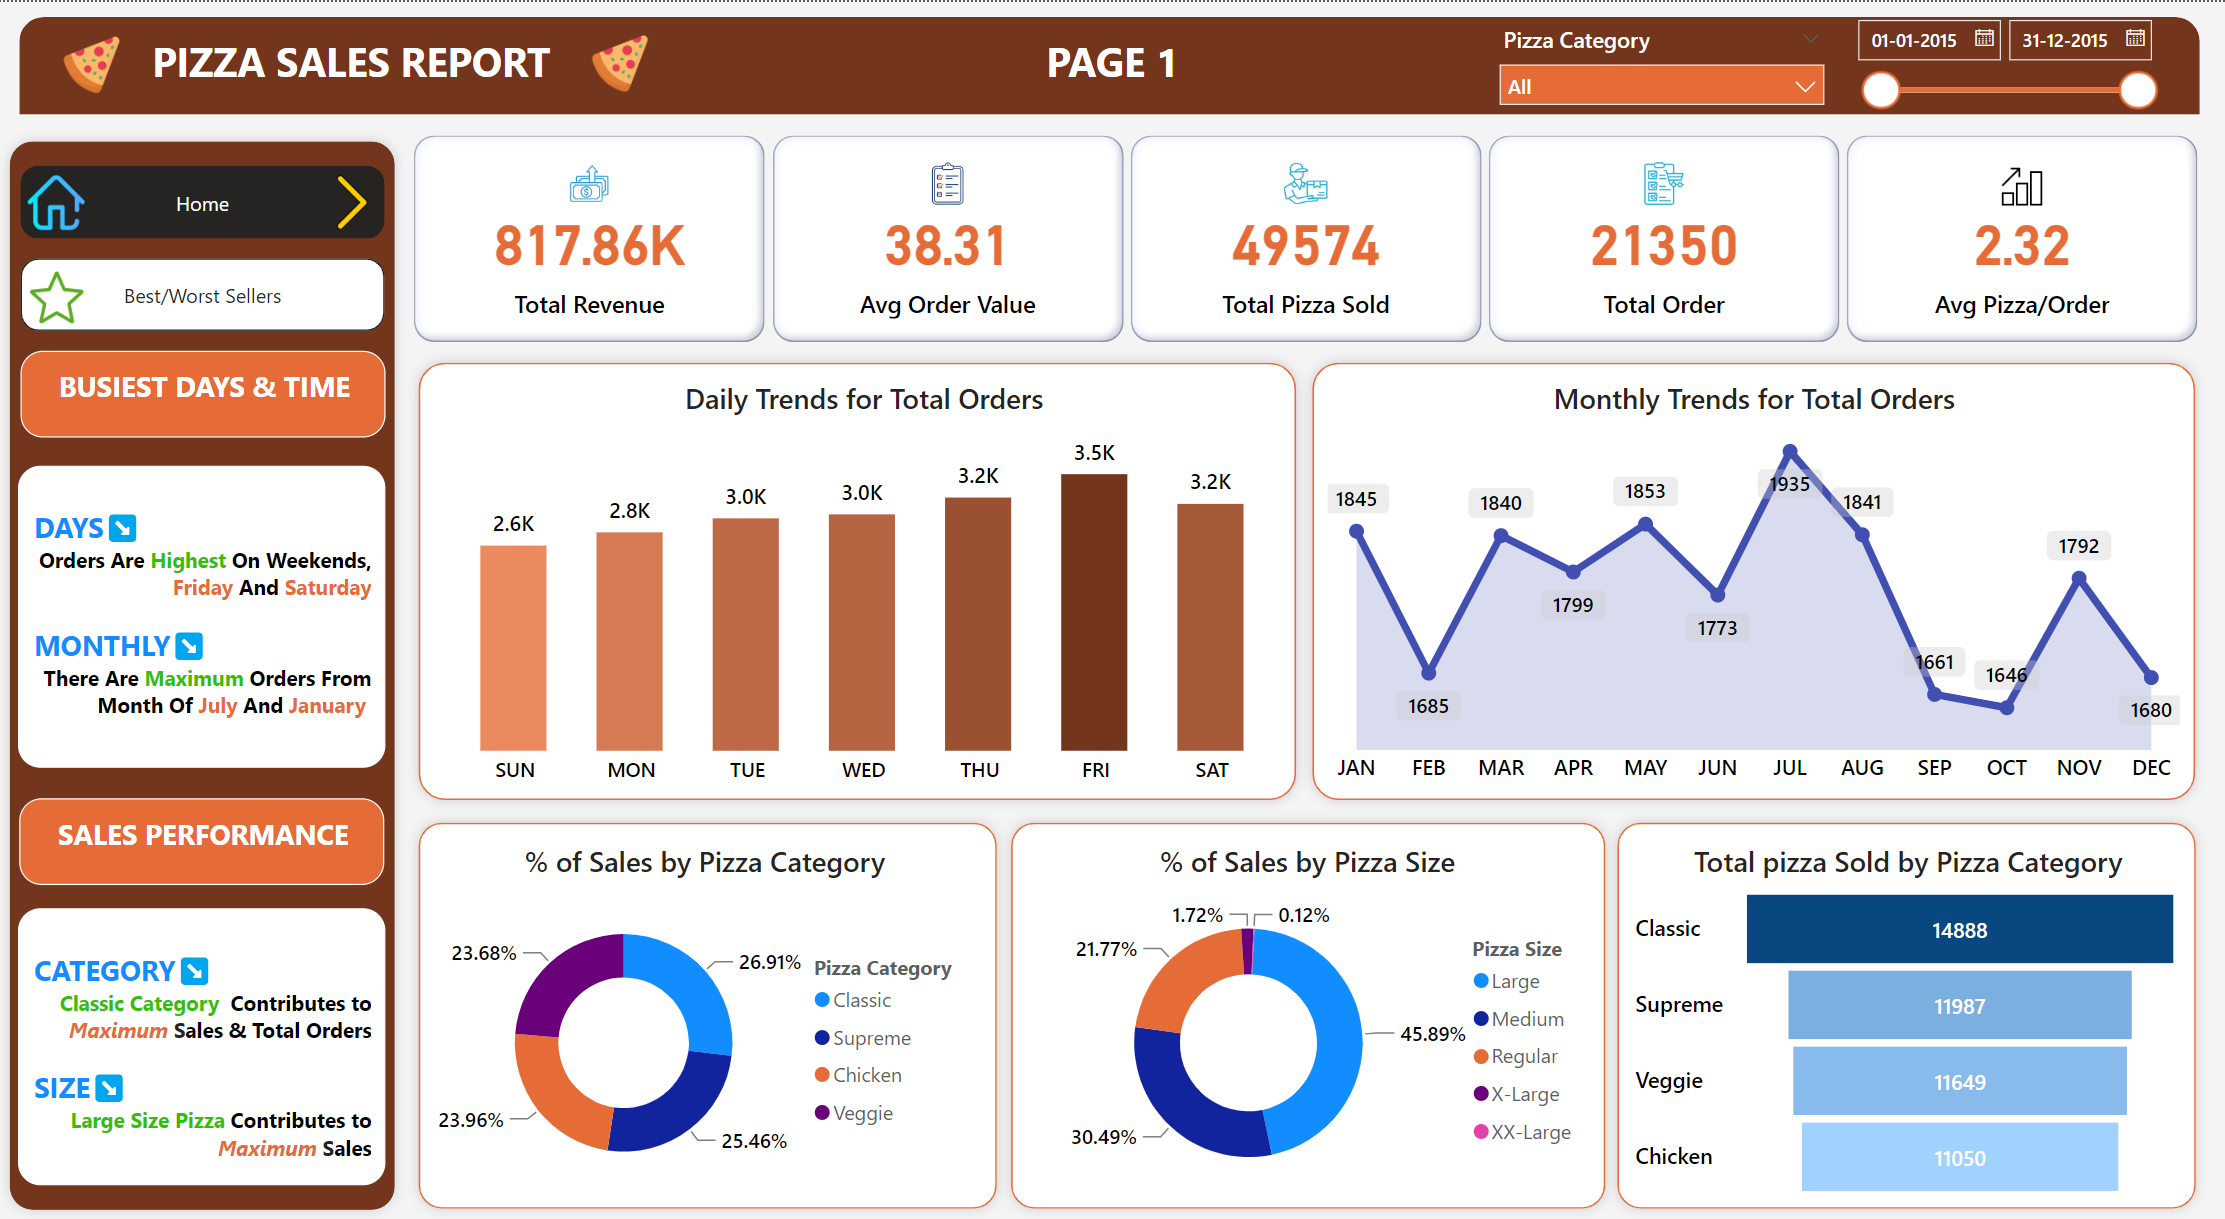

The dashboard page shown, as its layout file describes it:
{"tool":"powerbi","page":{"name":"Home","canvas":[1500,820],"ordinal":0},"visuals":[{"type":"cardVisual","fields":{"Data":["key_measures.Total_Revenue","key_measures.Avg_Order_Value","key_measures.Total_Pizza_Sold","key_measures.Total_Order","key_measures.Avg_Pizza_Per_Order"]},"box":[274.8,85.1,1211.8,149.8],"z":0},{"type":"shape","box":[14.3,10,1467.1,65.7],"z":1000},{"type":"shape","box":[274.8,234.9,606.4,310.3],"z":2000},{"type":"columnChart","title":"Daily Trends for Total Orders","fields":{"Category":["pizza_sales.Order Day"],"Y":["key_measures.Total_Order"]},"box":[288.7,254.1,588.4,280.4],"z":3000},{"type":"shape","box":[876.7,234.9,609.9,310.3],"z":4000},{"type":"areaChart","title":"Monthly Trends for Total Orders","fields":{"Y":["key_measures.Total_Order"],"Category":["pizza_sales.Order Month"]},"box":[889.5,254.1,591.2,280.4],"z":5000},{"type":"shape","box":[274.8,544.3,405,275.7],"z":6000},{"type":"shape","box":[673.7,544.3,415.8,275.7],"z":7000},{"type":"shape","box":[1081.5,544.3,405.1,275.7],"z":8000},{"type":"donutChart","title":"% of Sales by Pizza Category","fields":{"Category":["pizza_sales.pizza_category"],"Y":["key_measures.Total_Revenue"]},"box":[288.7,564.9,374.3,244.5],"z":9000},{"type":"donutChart","title":"% of Sales by Pizza Size","fields":{"Y":["key_measures.Total_Revenue"],"Category":["pizza_sales.pizza_size"]},"box":[686.5,564.9,389.5,244.5],"z":10000},{"type":"funnel","title":"Total pizza Sold by Pizza Category","fields":{"Category":["pizza_sales.pizza_category"],"Y":["key_measures.Total_Pizza_Sold"]},"box":[1096.7,564.9,377.1,244.5],"z":11000},{"type":"shape","box":[0,85.6,274.9,734.8],"z":12000},{"type":"image","box":[20.4,17.7,86,48.8],"z":13000},{"type":"textbox","box":[89.5,16.8,297,48.8],"z":14000},{"type":"image","box":[386.5,16.8,62.9,48.8],"z":15000},{"type":"slicer","fields":{"Values":["pizza_sales.pizza_category"]},"box":[1000,10,238.6,65.7],"z":16000},{"type":"slicer","fields":{"Values":["pizza_sales.order_date"]},"box":[1238.4,1.8,222.5,73.6],"z":17000},{"type":"textbox","box":[601.5,17,297.1,48.7],"z":18000},{"type":"textbox","box":[14.6,535.7,245.9,58.4],"z":19000},{"type":"textbox","box":[13.4,610,247.2,186.3],"z":20000},{"type":"textbox","box":[15.2,234.8,245.9,58],"z":21000},{"type":"textbox","box":[13.4,311.7,247.2,203.3],"z":22000},{"type":"pageNavigator","box":[15.2,172.7,245.9,49.7],"z":23000},{"type":"pageNavigator","box":[15.2,110.5,245.9,49.7],"z":24000},{"type":"image","box":[215.5,111.9,45.6,45.6],"z":25000},{"type":"image","box":[15.2,110.5,48.3,49.7],"z":26000},{"type":"image","box":[15.2,175.4,48.3,45.6],"z":26001}]}

Visuals, with their boxes in screenshot pixels (x1, y1, x2, y2), scaled from the page's 1500x820 canvas onto the 2225x1219 screenshot:
cardVisual - key_measures.Total_Revenue x key_measures.Avg_Order_Value: rect(408, 127, 2205, 349)
shape: rect(21, 15, 2197, 113)
shape: rect(408, 349, 1307, 810)
"Daily Trends for Total Orders" columnChart: rect(428, 378, 1301, 795)
shape: rect(1300, 349, 2205, 810)
"Monthly Trends for Total Orders" areaChart: rect(1319, 378, 2196, 795)
shape: rect(408, 809, 1008, 1218)
shape: rect(999, 809, 1616, 1218)
shape: rect(1604, 809, 2205, 1218)
"% of Sales by Pizza Category" donutChart: rect(428, 840, 983, 1203)
"% of Sales by Pizza Size" donutChart: rect(1018, 840, 1596, 1203)
"Total pizza Sold by Pizza Category" funnel: rect(1627, 840, 2186, 1203)
shape: rect(0, 127, 408, 1218)
image: rect(30, 26, 158, 99)
textbox: rect(133, 25, 573, 98)
image: rect(573, 25, 667, 98)
slicer - pizza_sales.pizza_category: rect(1483, 15, 1837, 113)
slicer - pizza_sales.order_date: rect(1837, 3, 2167, 112)
textbox: rect(892, 25, 1333, 98)
textbox: rect(22, 796, 386, 883)
textbox: rect(20, 907, 387, 1184)
textbox: rect(23, 349, 387, 435)
textbox: rect(20, 463, 387, 766)
pageNavigator: rect(23, 257, 387, 331)
pageNavigator: rect(23, 164, 387, 238)
image: rect(320, 166, 387, 234)
image: rect(23, 164, 94, 238)
image: rect(23, 261, 94, 329)
